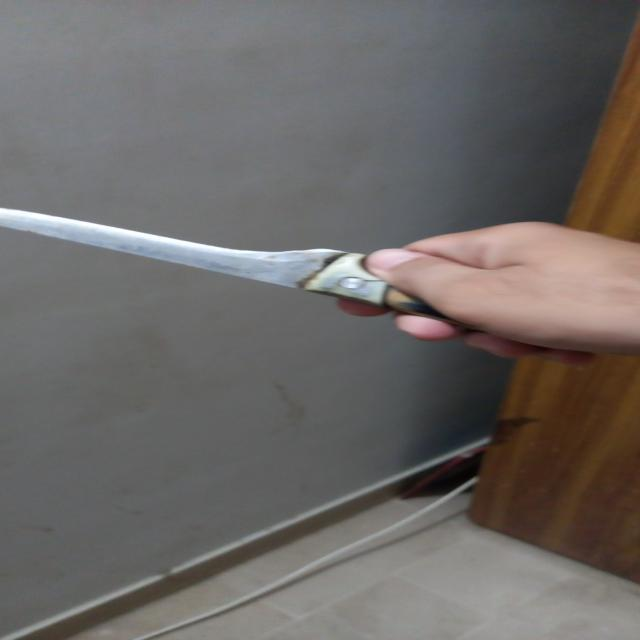knife: (1, 194, 481, 332)
